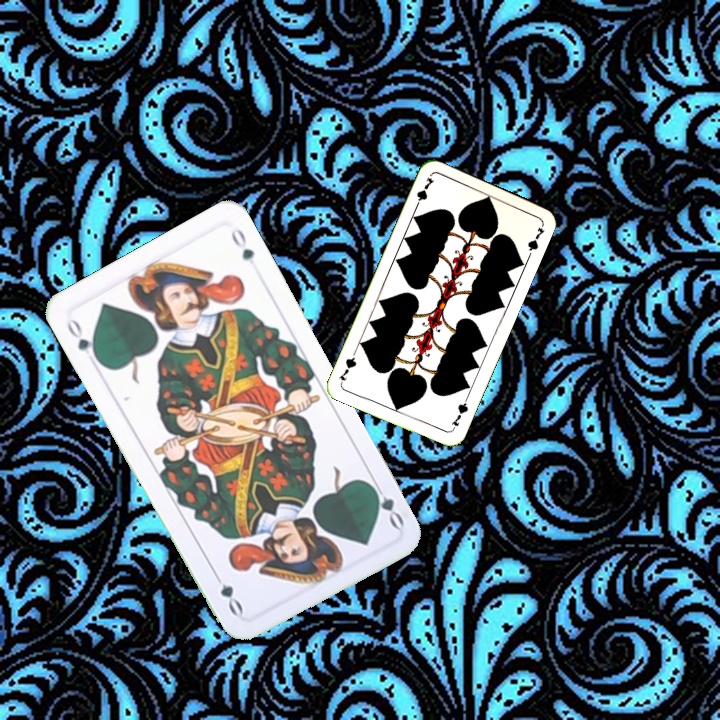G7: (411, 173, 437, 211), (447, 394, 471, 433)
GO: (364, 476, 407, 531), (62, 313, 103, 365)
